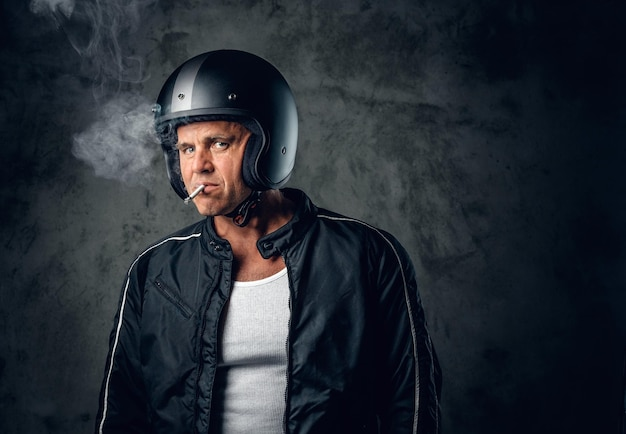cigarette: (183, 183, 205, 203)
